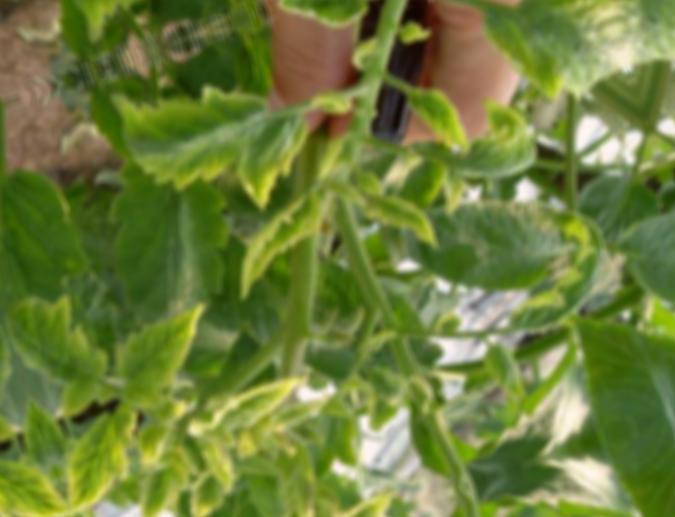Tomato leaf yellow virus: (83, 30, 333, 248), (199, 149, 386, 311), (448, 0, 632, 128), (90, 296, 238, 420), (0, 274, 118, 418), (400, 108, 548, 219), (42, 403, 157, 516), (193, 356, 325, 446), (276, 0, 383, 51), (328, 475, 407, 517)
